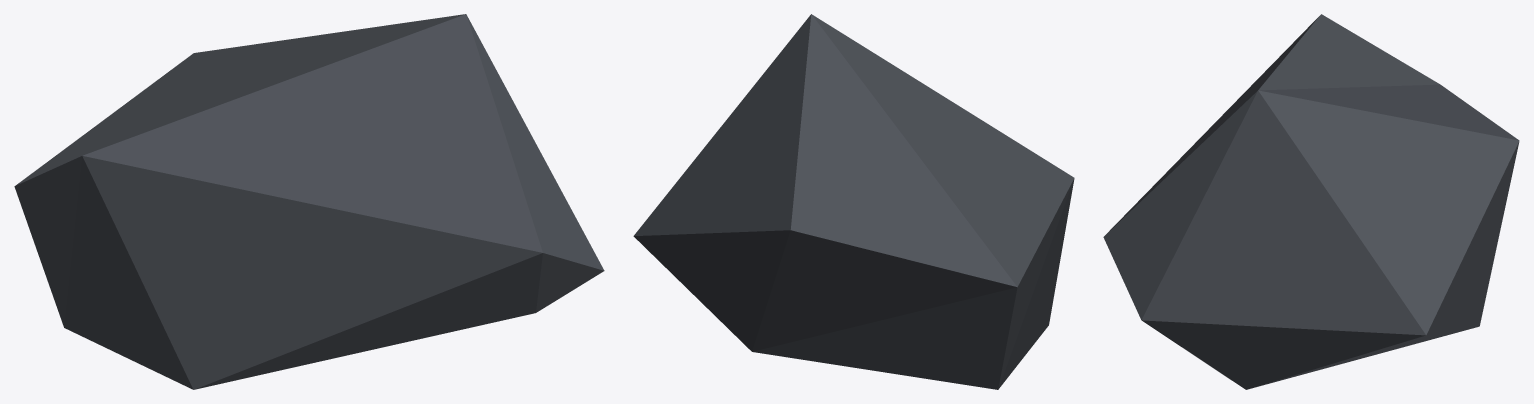
The model's file is Rock_VS_2.fbx.
3 renders of one model, left to right at view 1: azimuth 30°, elevation 25°; view 2: azimuth 150°, elevation 25°; view 3: azimuth 270°, elevation 25°, orthographic. The views are drawn at different scales.
Parts seen in each view (by area): view 1: Group64603; view 2: Group64603; view 3: Group64603.
Part boxes in pixels (box(x1,y1,x2,y2)): Group64603: box(14, 14, 604, 389); Group64603: box(633, 14, 1074, 389); Group64603: box(1103, 14, 1519, 389).
Size of the model in its own units: 31.33 by 19.98 by 27.65.
